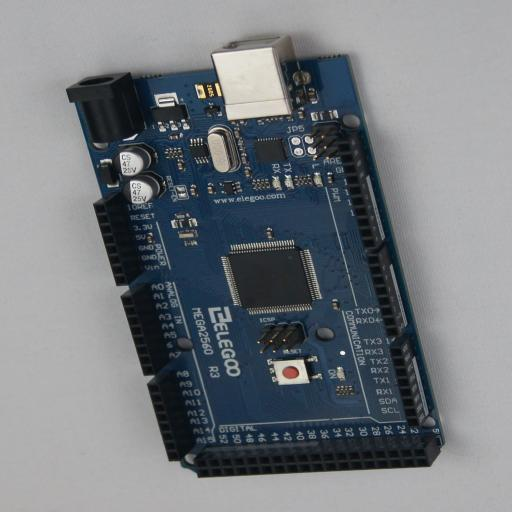Arduino Mega 2560 -Blue-: (66, 36, 445, 478)
